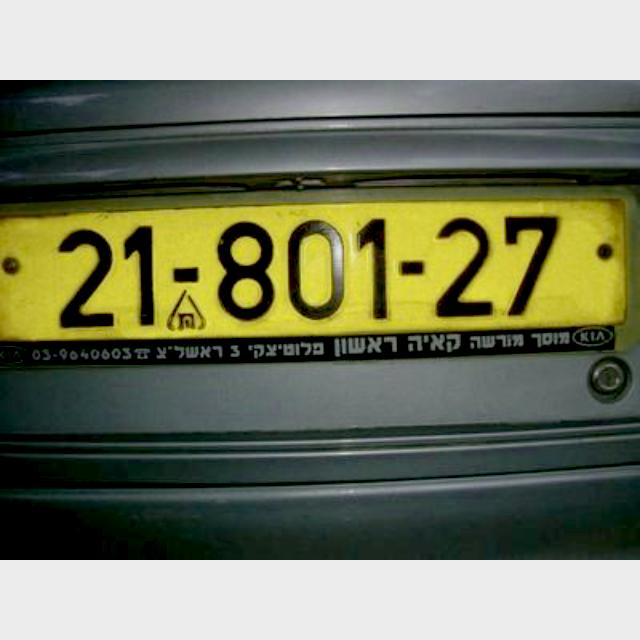plate: (2, 200, 626, 340)
